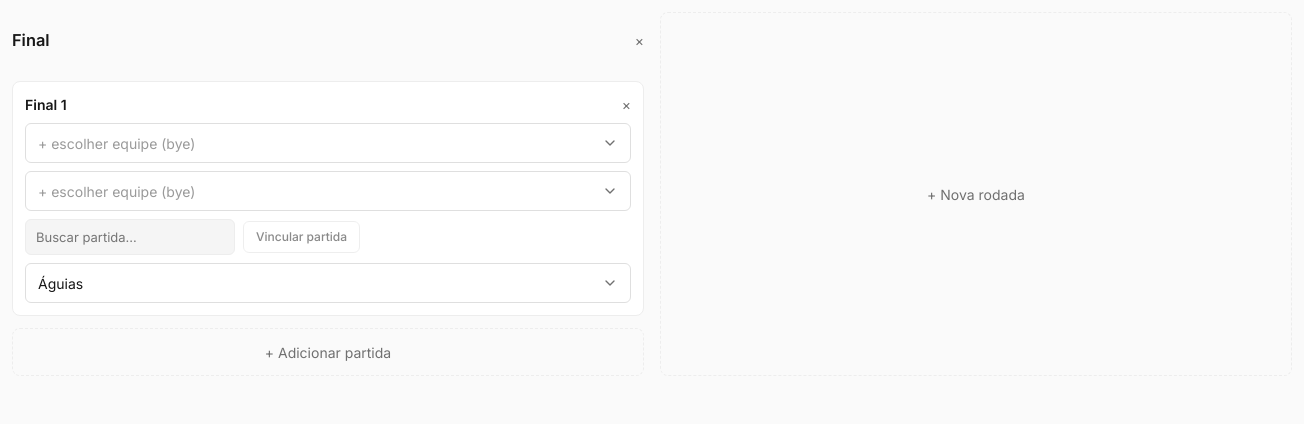
Scenario: BracketTab › setting the slot winner › blocks replacing the winning side until the winner is cleared
Click the button with aria-label "mandante": [117, 143] box [25,123,631,163]
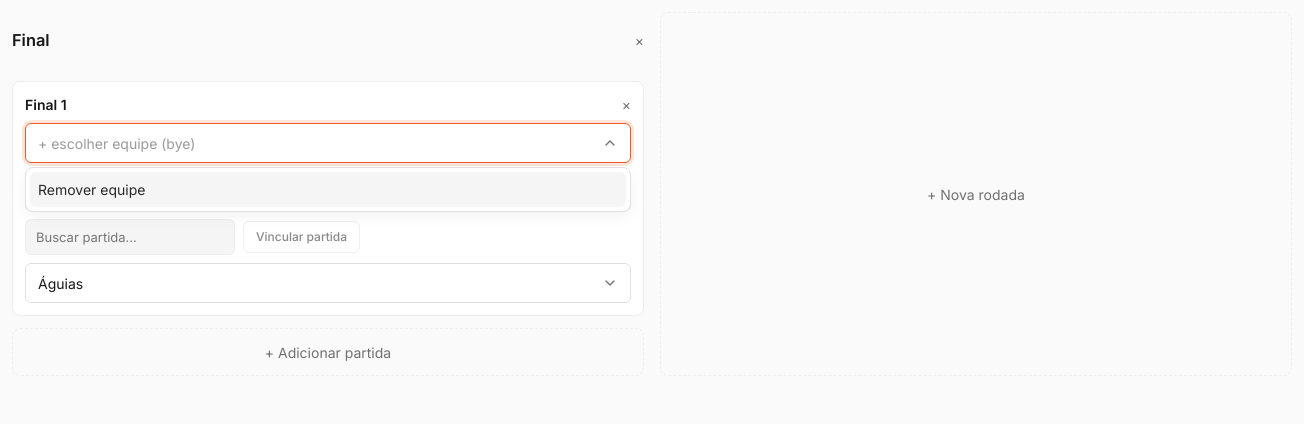
Click the option "Remover equipe": [92, 190] box [30,172,626,207]
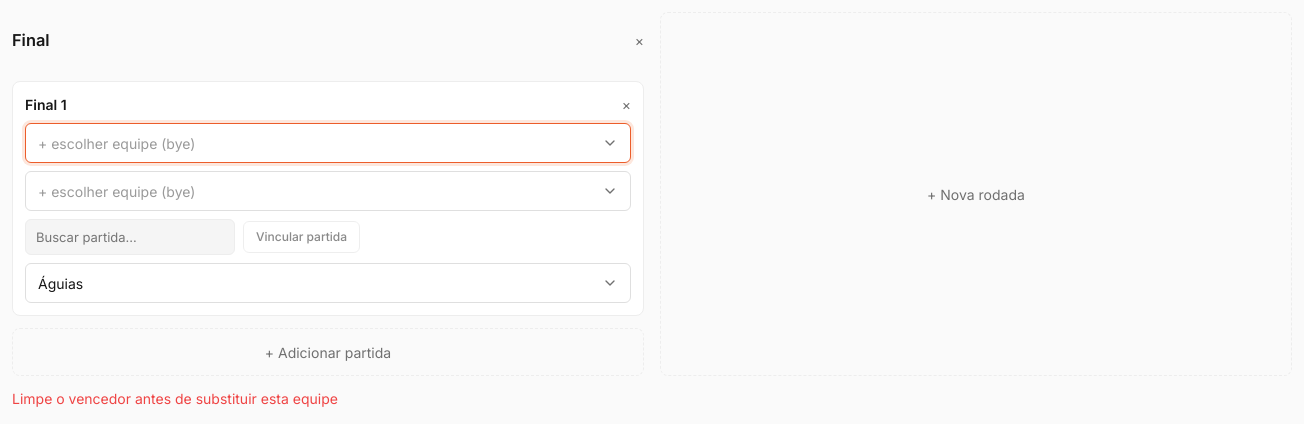
Expected: the message reads "Limpe o vencedor antes de substituir esta equipe", [12,390,338,407]
